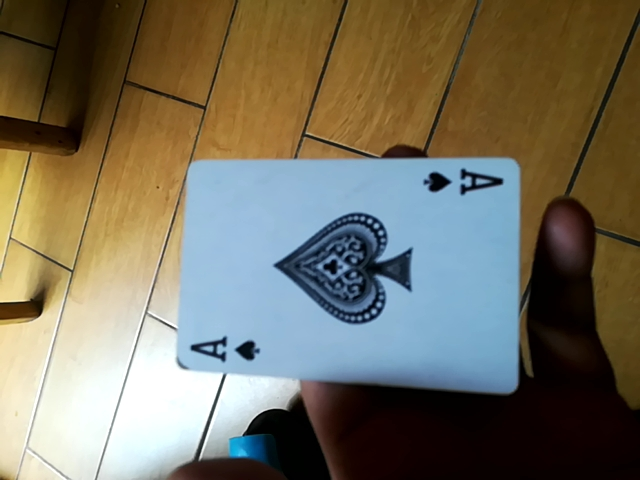ht a: (180, 162, 523, 393)
